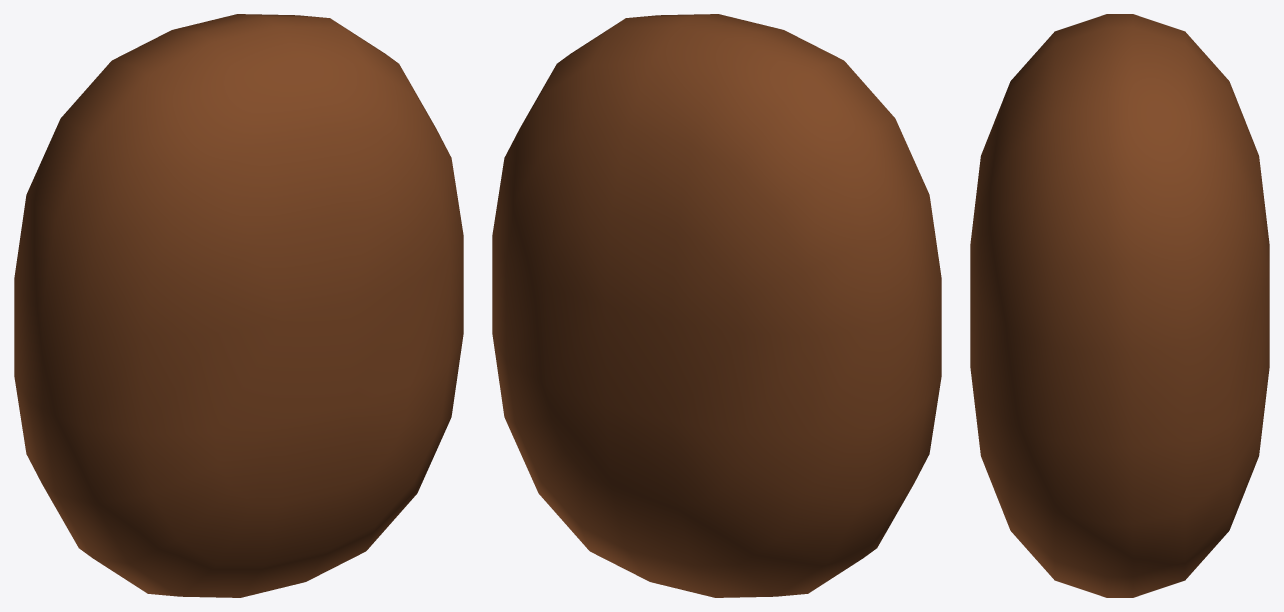
The model's file is jewel1_Amber.fbx.
3 views of the same model, side by side, from view 1: azimuth 30°, elevation 25°; view 2: azimuth 150°, elevation 25°; view 3: azimuth 270°, elevation 25° (orthographic). The views are drawn at different scales.
Visible parts, largest first — view 1: jewel1_Amber; view 2: jewel1_Amber; view 3: jewel1_Amber.
Part boxes in pixels (x1,y1,x2,y2): jewel1_Amber: (14,14,463,597); jewel1_Amber: (492,14,941,597); jewel1_Amber: (970,14,1269,597).
Bounding box in the file's own units: 0.4829 × 0.6269 × 0.3231.
